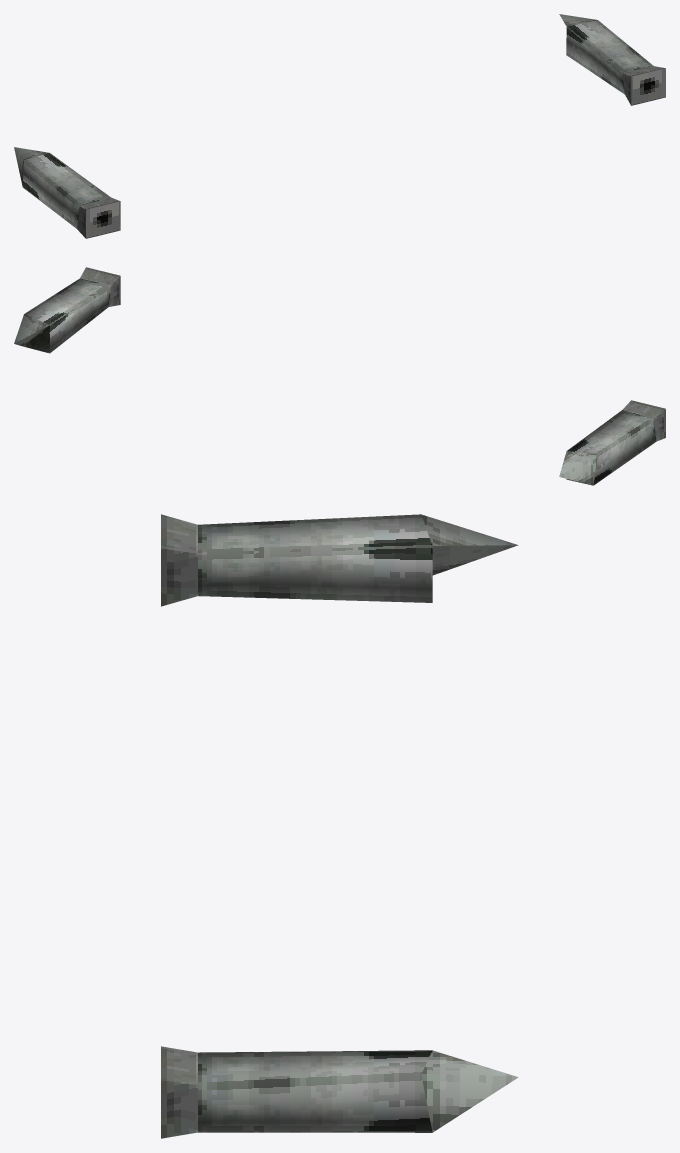
File: black_sun_fighter_medium_weapon2_s03_l3.fbx
The picture shows the model from 3 angles, top to bottom: view 1: azimuth 30°, elevation 25°; view 2: azimuth 150°, elevation 25°; view 3: azimuth 270°, elevation 25°; orthographic projection. The views are drawn at different scales.
Parts seen in each view (by area): view 1: mesh_node; view 2: mesh_node; view 3: mesh_node.
Part boxes in pixels (x1,y1,x2,y2): mesh_node: (14, 14, 665, 238); mesh_node: (14, 267, 665, 485); mesh_node: (161, 514, 518, 1138).
Size of the model in its own units: 7.4 by 0.3736 by 1.98.
